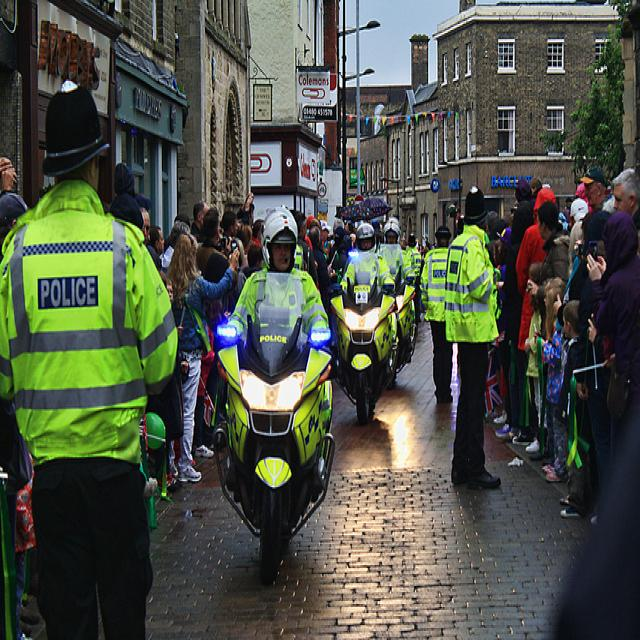motor: (205, 270, 334, 582), (336, 257, 401, 435), (380, 239, 422, 373)
